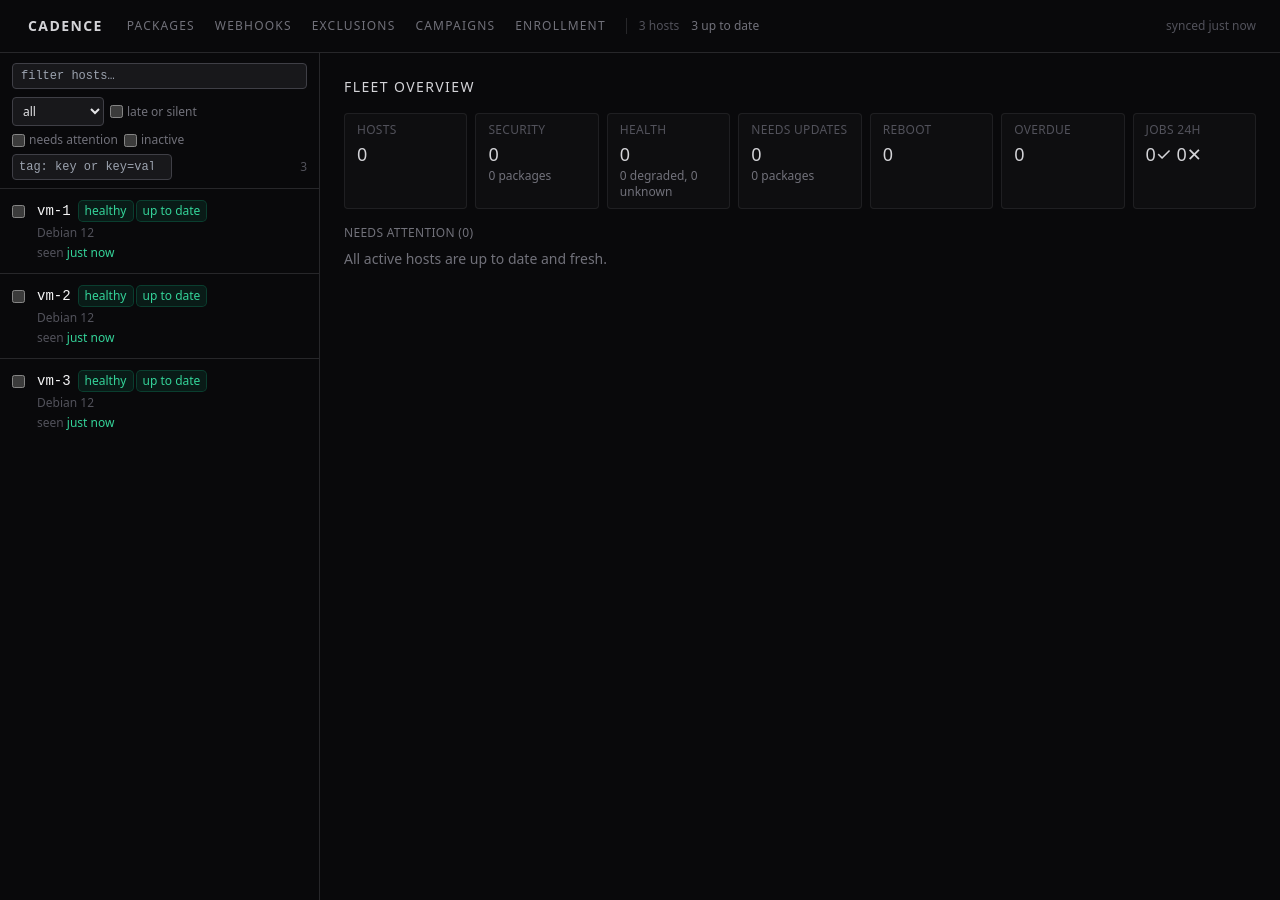
Scenario: App anomaly navigation › keeps the selection across filters and reports the hidden count
Expected: the text "vm-1" is shown, [37,201,71,221]
Click the checkbox named "Select vm-1" at {"x": 18, "y": 212}, box [12,205,25,218]
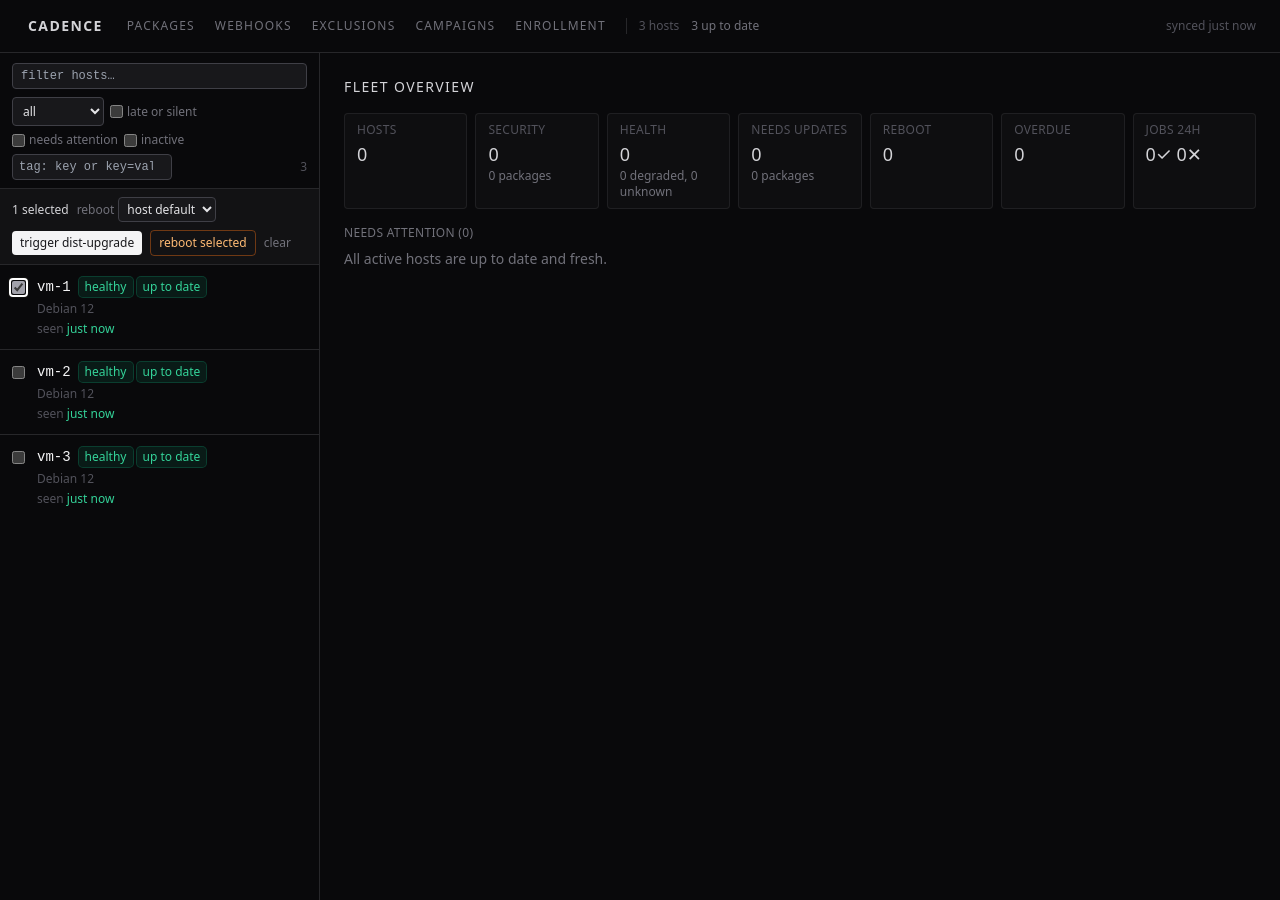
Click the checkbox named "Select vm-2" at {"x": 18, "y": 372}, box [12,366,25,379]
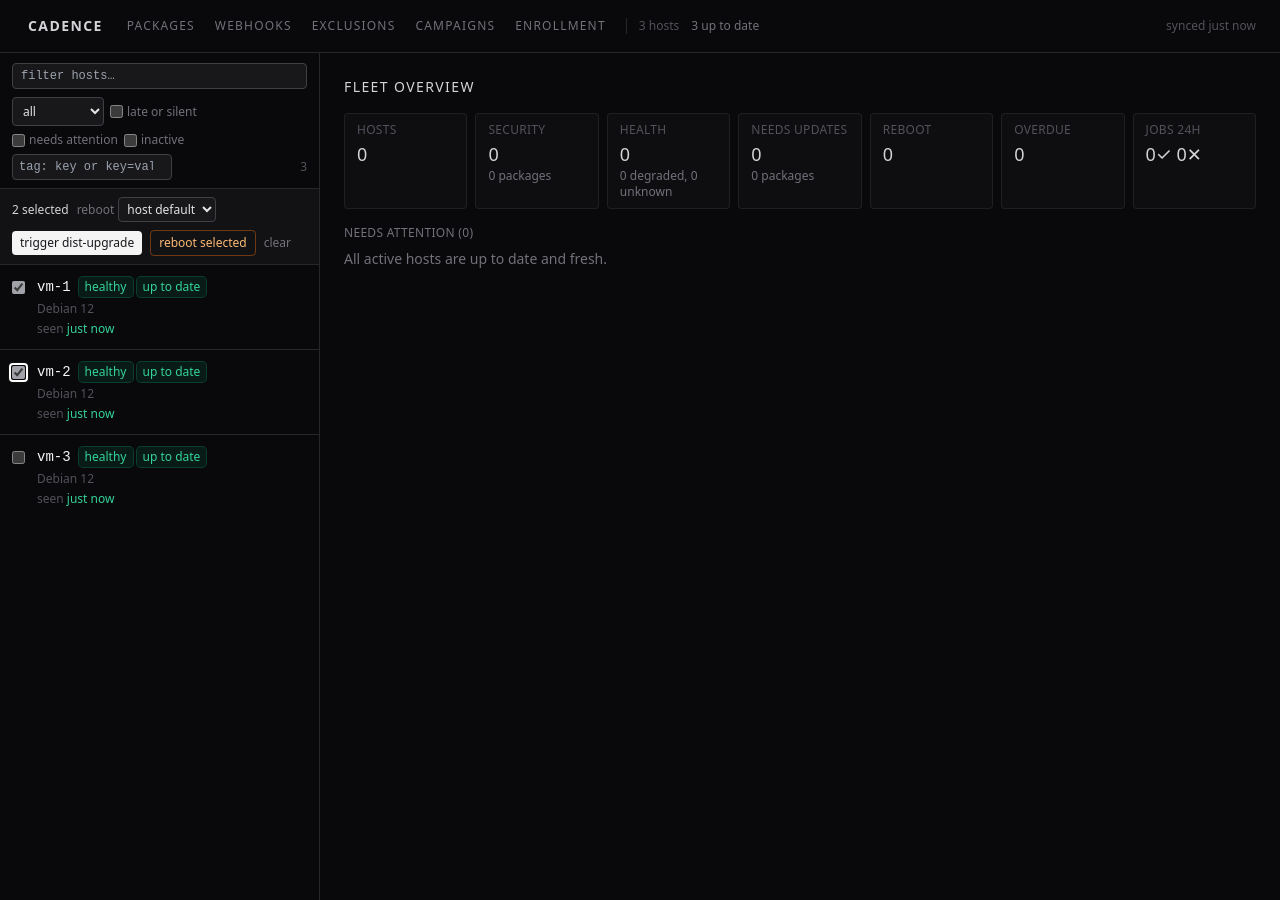
Expected: the text "hidden" is not shown
Now the text "2 selected" is shown, box [12,202,69,218]
Type "vm-1" into the search field named "filter hosts by name" at {"x": 160, "y": 76}, box [12,63,307,89]
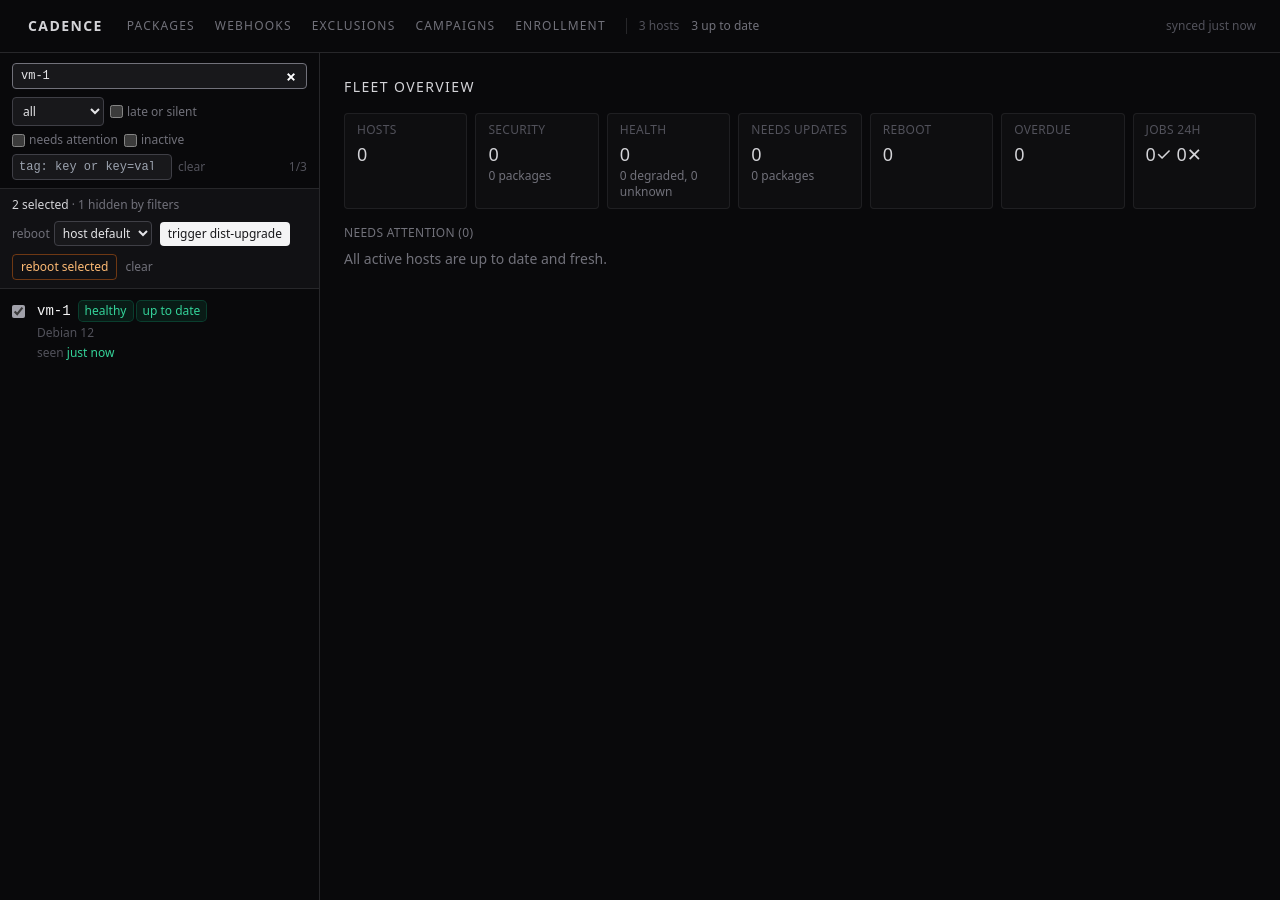
Now the text "· 1 hidden by filters" is shown, box [69,196,179,213]
Clear the search field named "filter hosts by name" at {"x": 160, "y": 76}, box [12,63,307,89]
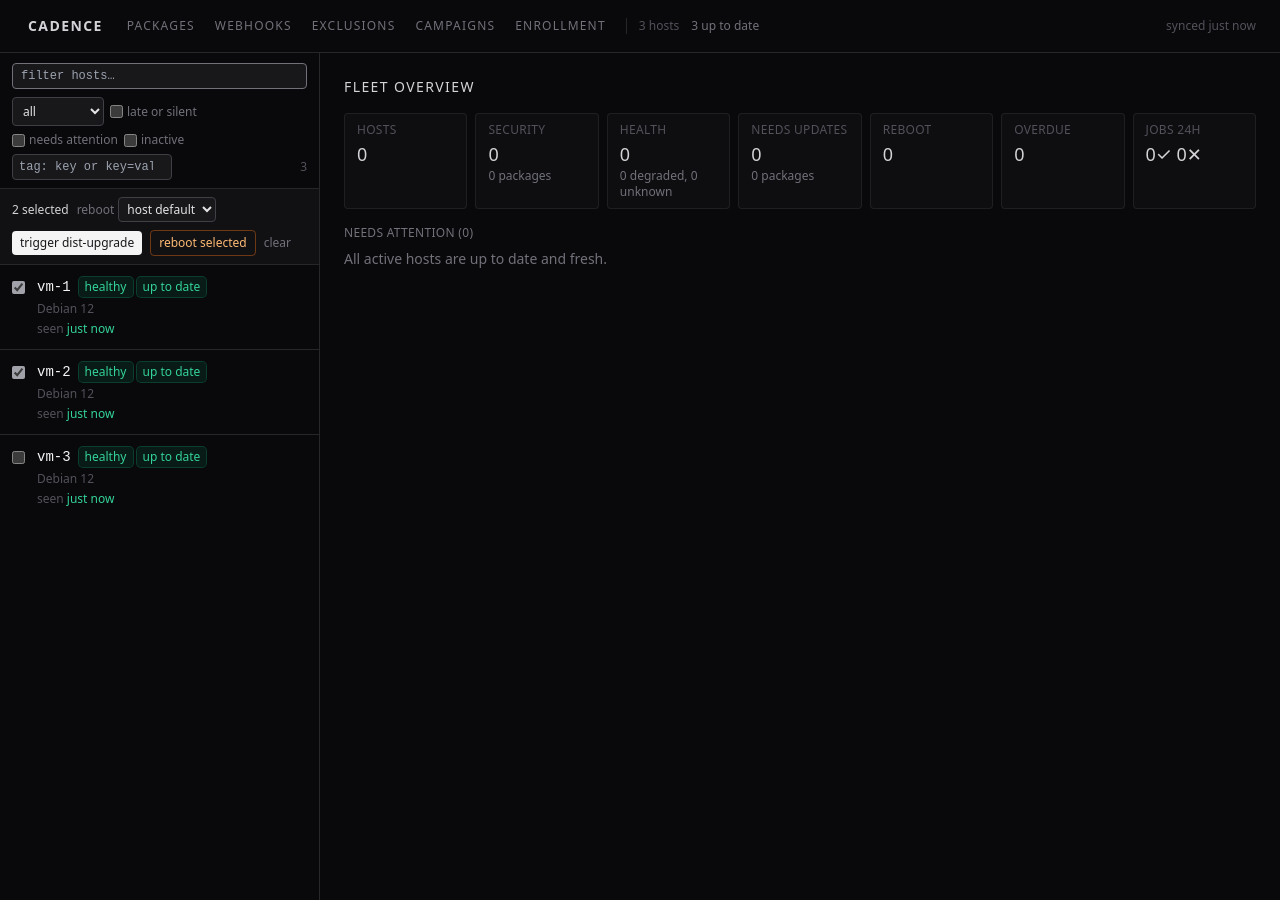
Now the text "2 selected" is shown, box [12,202,69,218]
Now the text "hidden" is gone
Now the text "vm-2" is shown, box [37,362,71,382]
